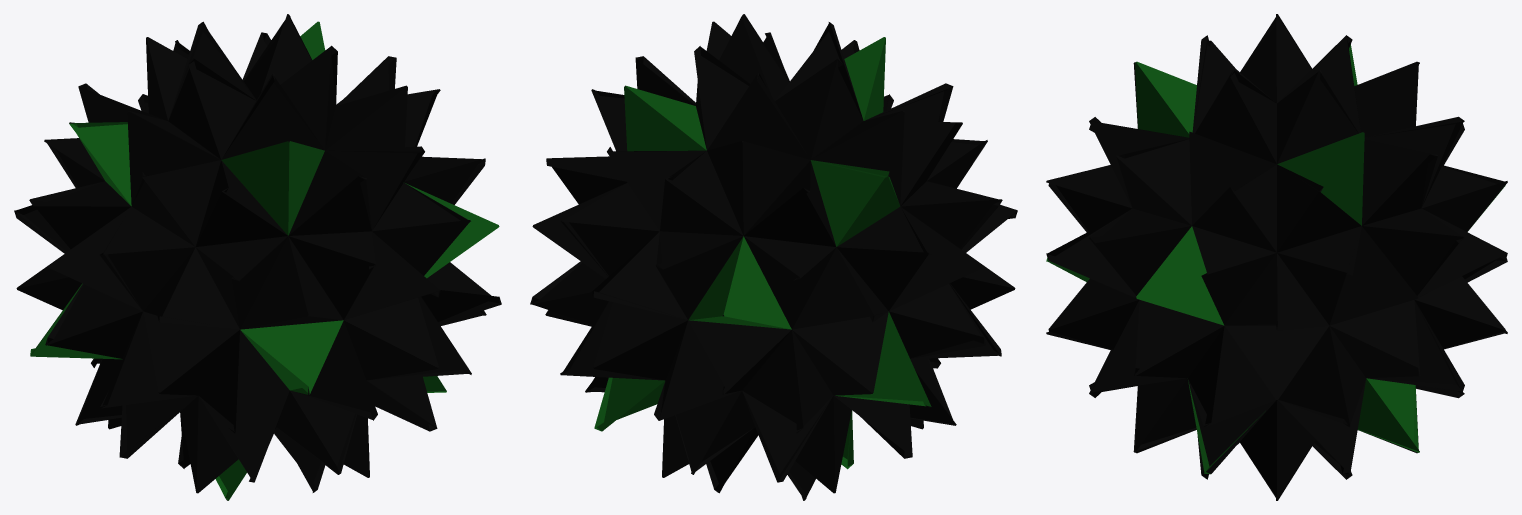
Rendered from kirpi.fbx.
3 renders of one model, left to right at view 1: azimuth 30°, elevation 25°; view 2: azimuth 150°, elevation 25°; view 3: azimuth 270°, elevation 25°, orthographic.
Parts seen in each view (by area): view 1: Icosphere; view 2: Icosphere; view 3: Icosphere.
Boxes of the visible parts, x1,y1,x2,y2 form: Icosphere: (14,14,501,500); Icosphere: (530,14,1017,500); Icosphere: (1046,14,1507,500).
Size of the model in its own units: 286 by 276 by 272.
